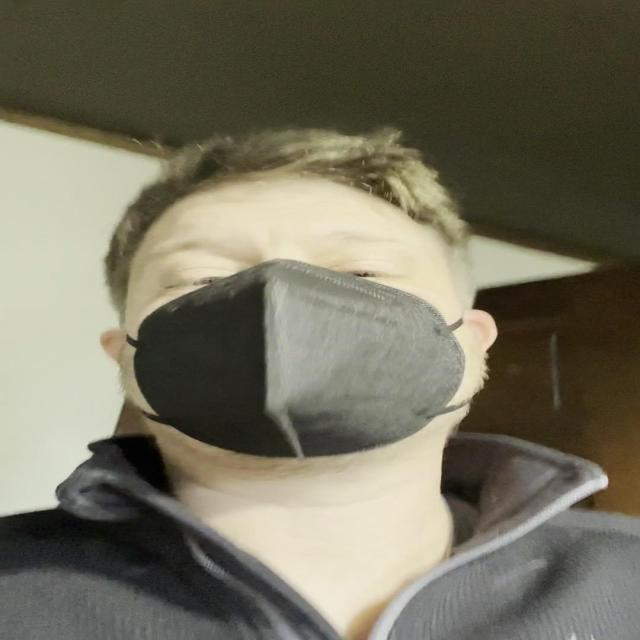no hat: (116, 172, 490, 456)
